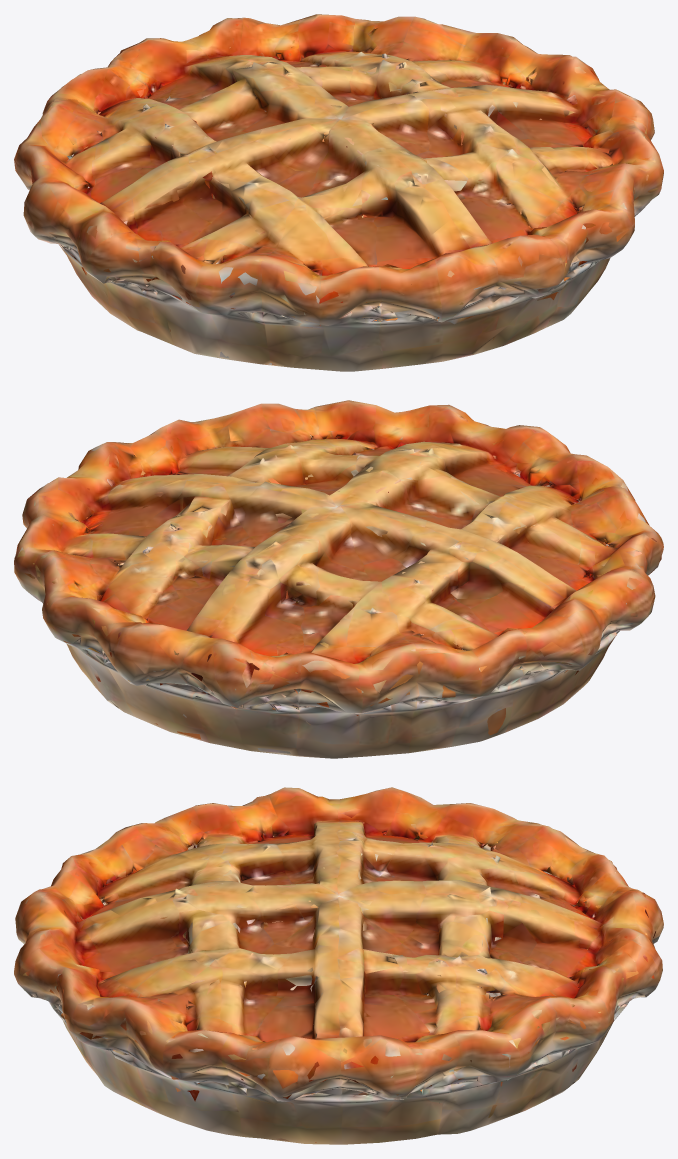
3 renders of one model, top to bottom at view 1: azimuth 30°, elevation 25°; view 2: azimuth 150°, elevation 25°; view 3: azimuth 270°, elevation 25°, orthographic.
Bounding box in the file's own units: 1.89 × 0.496 × 1.89.
Materials: 1 (1 with a texture image).
